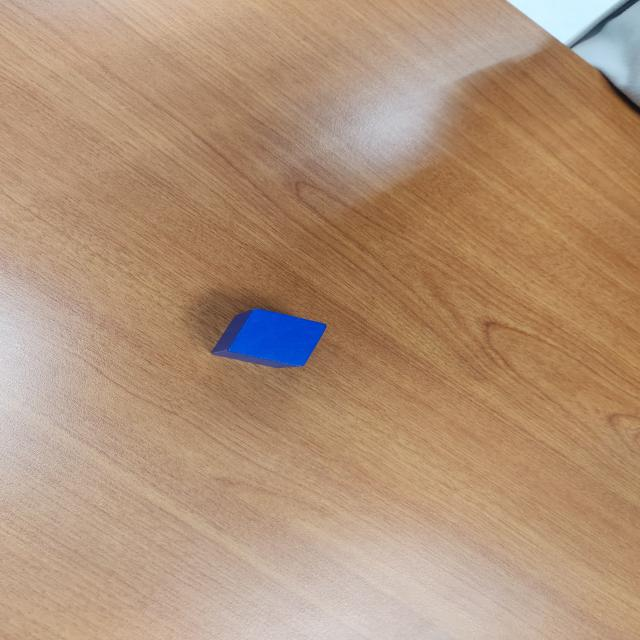blue: (211, 308, 328, 369)
